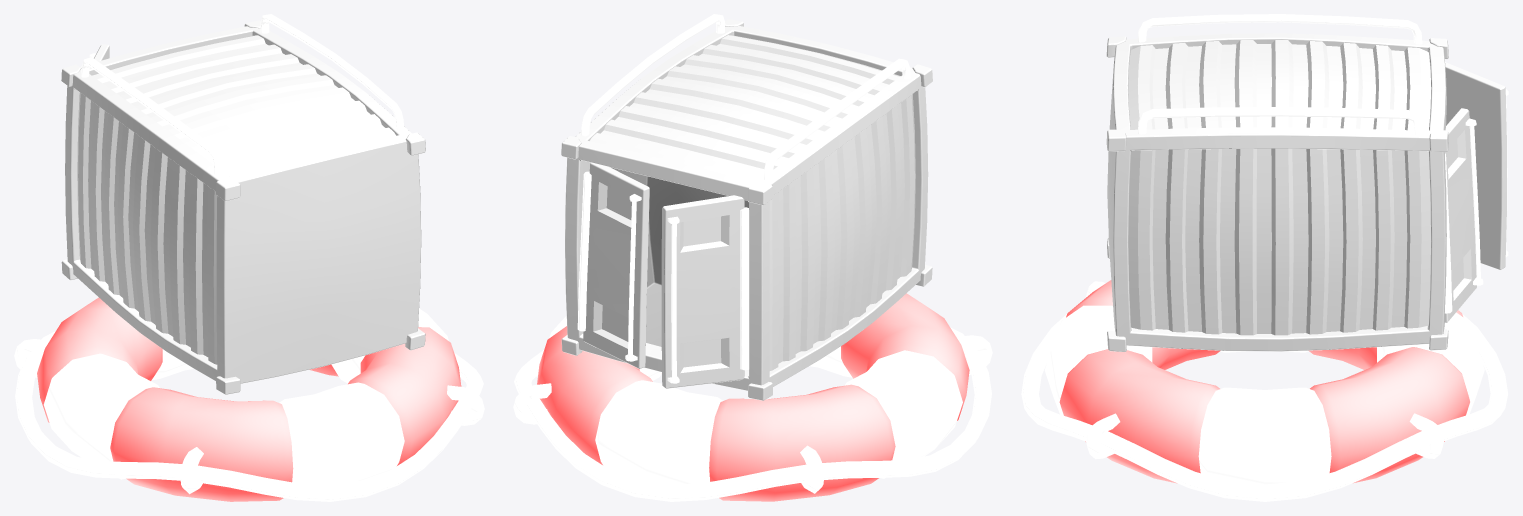
File: storage.fbx
The picture shows the model from 3 angles, left to right: view 1: azimuth 30°, elevation 25°; view 2: azimuth 150°, elevation 25°; view 3: azimuth 270°, elevation 25°; orthographic projection. The views are drawn at different scales.
Parts seen in each view (by area): view 1: cargoCrate, lifebuoy.001; view 2: cargoCrate, lifebuoy.001, doorL, doorR; view 3: cargoCrate, lifebuoy.001, doorL, doorR.
Part boxes in pixels (left/top/right/bottom): cargoCrate: left=61, top=14, right=425, bottom=394; lifebuoy.001: left=14, top=297, right=484, bottom=501; cargoCrate: left=561, top=14, right=932, bottom=400; lifebuoy.001: left=513, top=293, right=992, bottom=501; doorL: left=661, top=195, right=749, bottom=388; doorR: left=577, top=162, right=649, bottom=368; cargoCrate: left=1106, top=14, right=1448, bottom=351; lifebuoy.001: left=1021, top=280, right=1507, bottom=501; doorL: left=1445, top=62, right=1508, bottom=270; doorR: left=1444, top=108, right=1483, bottom=322.
Bounding box in the file's own units: 1.11 × 0.8927 × 1.11.
